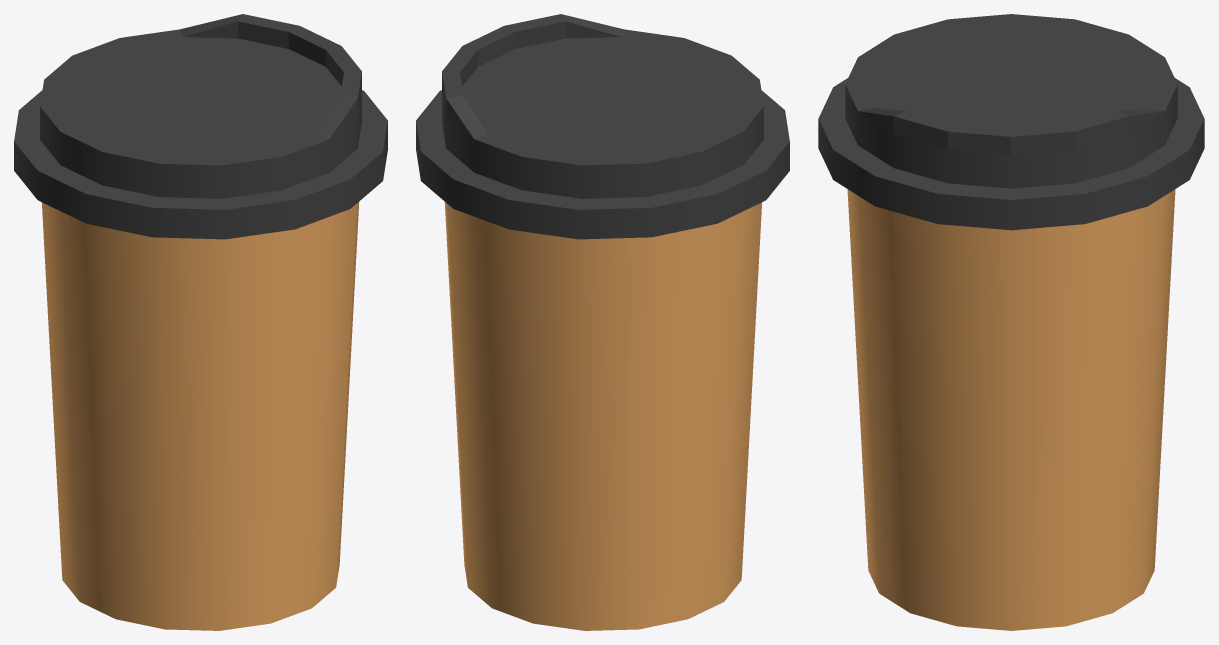
Rendered from CoffeeCup.fbx.
3 views of the same model, side by side, from view 1: azimuth 30°, elevation 25°; view 2: azimuth 150°, elevation 25°; view 3: azimuth 270°, elevation 25° (orthographic). The views are drawn at different scales.
Parts seen in each view (by area): view 1: CoffeeCup; view 2: CoffeeCup; view 3: CoffeeCup.
Boxes of the visible parts, bbox=[...] form: CoffeeCup: bbox=[14, 14, 387, 630]; CoffeeCup: bbox=[416, 14, 789, 630]; CoffeeCup: bbox=[818, 14, 1204, 630].
Size of the model in its own units: 0.5453 by 0.7853 by 0.5453.
2 materials, 2 textured.
